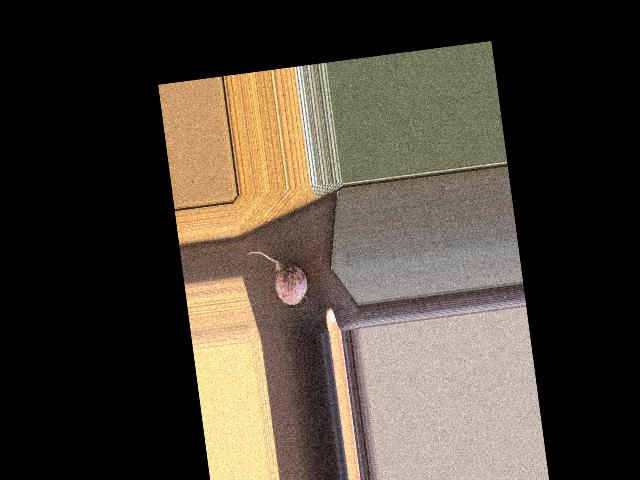beet: (248, 244, 311, 320)
